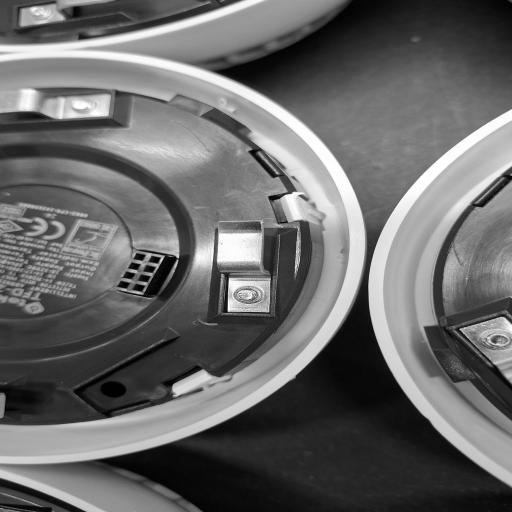konnektor: (115, 243, 188, 309)
yaysiz: (198, 202, 304, 322)
